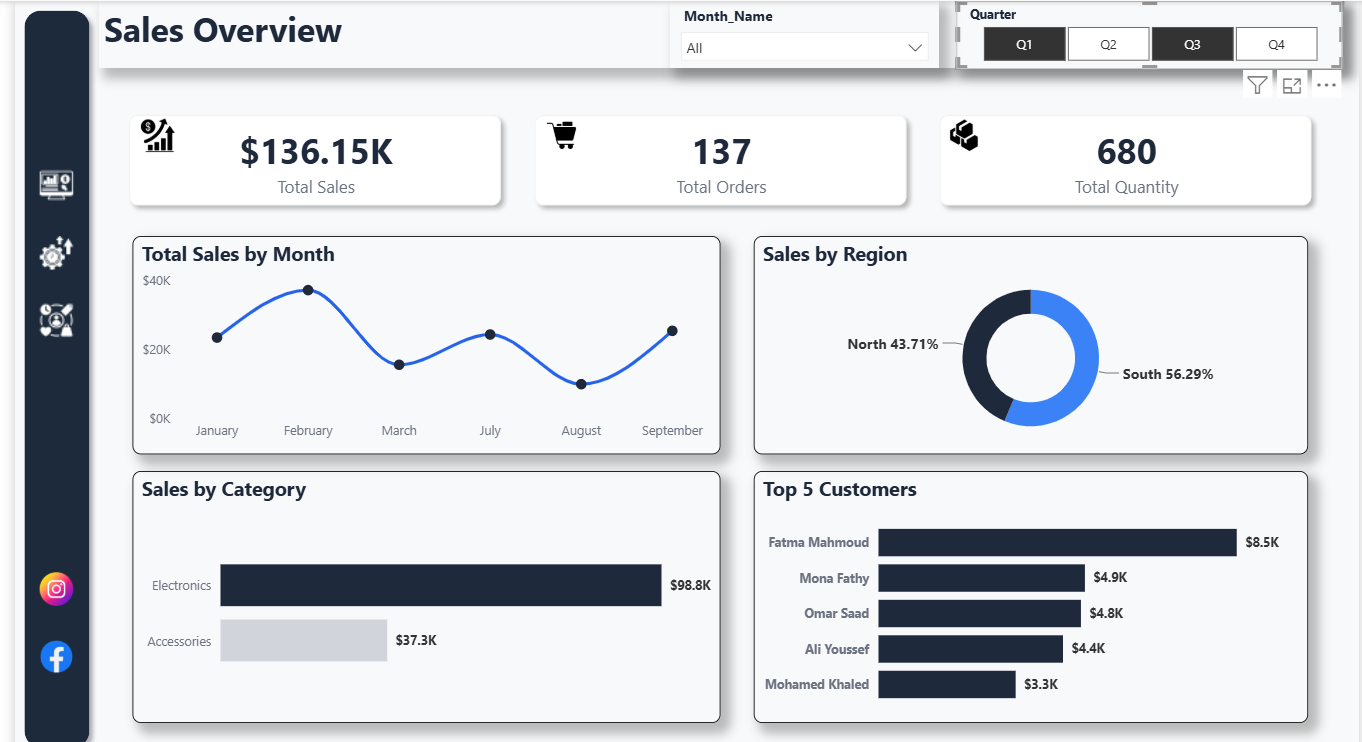

Layout of this report page (visuals, bound fields, positions):
{"tool":"powerbi","page":{"name":"Sales Overview","canvas":[1280,720],"ordinal":0},"visuals":[{"type":"shape","box":[0,0,80,720],"z":0},{"type":"textbox","box":[80,0,1184,64],"z":1000},{"type":"cardVisual","fields":{"Data":["_Measure.Total Sales","_Measure.Total Orders","_Measure.Total Quantity"]},"box":[80,80,1184,144],"z":2000},{"type":"lineChart","title":"Total Sales by Month","fields":{"Category":["Dim_Date.Month_Name"],"Y":["_Measure.Total Sales"]},"box":[112,224,560,208],"z":3000},{"type":"clusteredBarChart","title":"Sales by Category","fields":{"Category":["Products_Raw.Category"],"Y":["_Measure.Total Sales"]},"box":[112,448,560,240],"z":4000},{"type":"donutChart","title":"Sales by Region","fields":{"Category":["All Sales.Region"],"Y":["_Measure.Total Sales"]},"box":[704,224,528,208],"z":5000},{"type":"clusteredBarChart","title":"Top 5 Customers","fields":{"Category":["Customers_Data.Full_Name"],"Y":["_Measure.Total Sales"]},"box":[704,448,528,240],"z":6000},{"type":"slicer","fields":{"Values":["Dim_Date.Quarter"]},"box":[896,0,368,64],"z":7000},{"type":"slicer","fields":{"Values":["Dim_Date.Month_Name"]},"box":[624,0,256,64],"z":8000},{"type":"image","box":[112,112,48,32],"z":9000},{"type":"image","box":[496,112,48,32],"z":10000},{"type":"image","box":[880,112,48,32],"z":11000},{"type":"image","box":[16,160,48,32],"z":11001},{"type":"image","box":[16,224,48,32],"z":11002},{"type":"image","box":[16,288,48,32],"z":11003},{"type":"image","box":[16,544,48,32],"z":11004},{"type":"image","box":[16,608,48,32],"z":11005}]}

Visuals, with their boxes on the page's 1280x720 design canvas (x1, y1, x2, y2). These are canvas units, not pixel positions in the 1362x742 screenshot, which may show the page scaled, cropped or inside an application window:
shape: bbox(0, 0, 80, 720)
textbox: bbox(80, 0, 1264, 64)
cardVisual - _Measure.Total Sales x _Measure.Total Orders: bbox(80, 80, 1264, 224)
"Total Sales by Month" lineChart: bbox(112, 224, 672, 432)
"Sales by Category" clusteredBarChart: bbox(112, 448, 672, 688)
"Sales by Region" donutChart: bbox(704, 224, 1232, 432)
"Top 5 Customers" clusteredBarChart: bbox(704, 448, 1232, 688)
slicer - Dim_Date.Quarter: bbox(896, 0, 1264, 64)
slicer - Dim_Date.Month_Name: bbox(624, 0, 880, 64)
image: bbox(112, 112, 160, 144)
image: bbox(496, 112, 544, 144)
image: bbox(880, 112, 928, 144)
image: bbox(16, 160, 64, 192)
image: bbox(16, 224, 64, 256)
image: bbox(16, 288, 64, 320)
image: bbox(16, 544, 64, 576)
image: bbox(16, 608, 64, 640)
